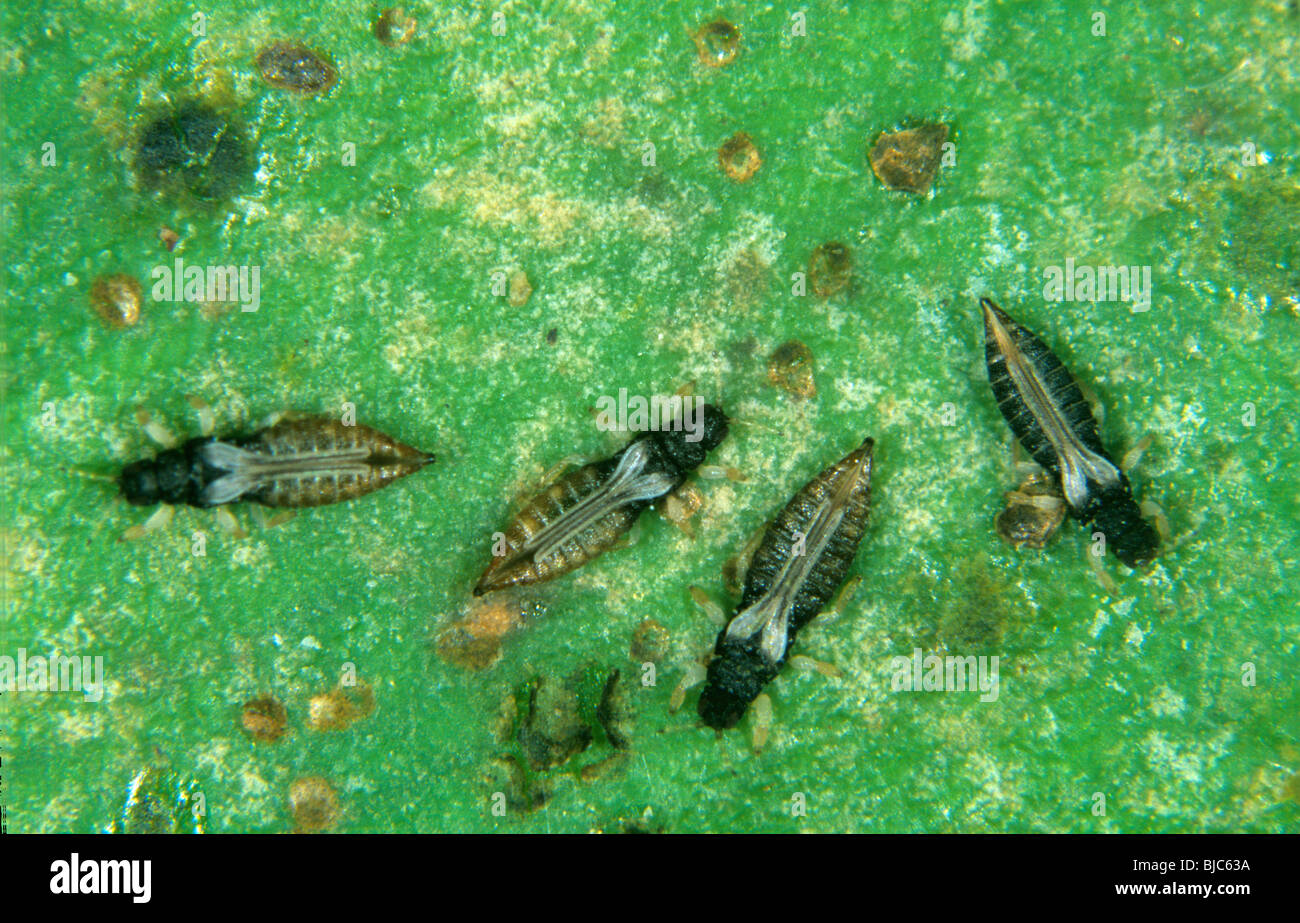Thripidae: (650, 436, 881, 756), (468, 393, 738, 601), (73, 405, 436, 553), (977, 298, 1168, 575)
